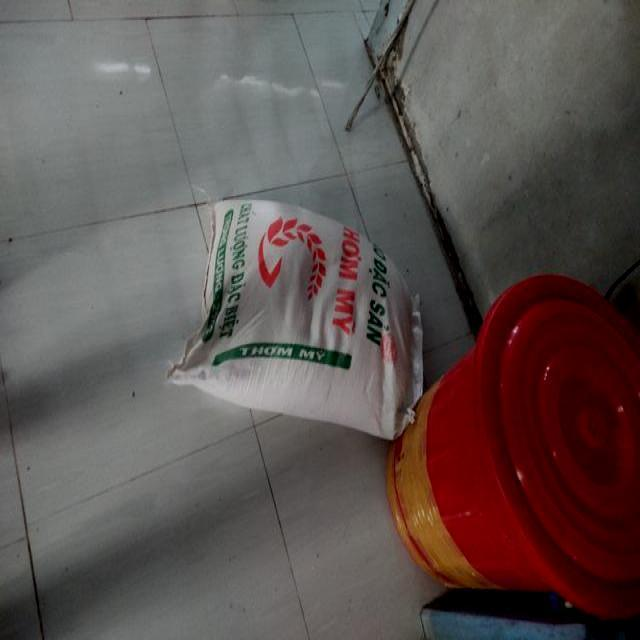gunny_bag: (170, 200, 424, 439)
